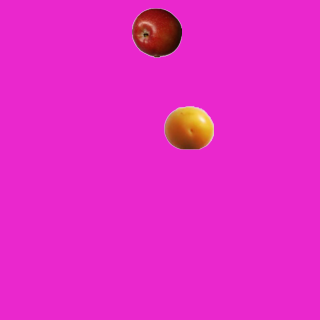Apple Braeburn: (131, 7, 181, 57)
Cherry Wax Yellow: (163, 102, 213, 152)
